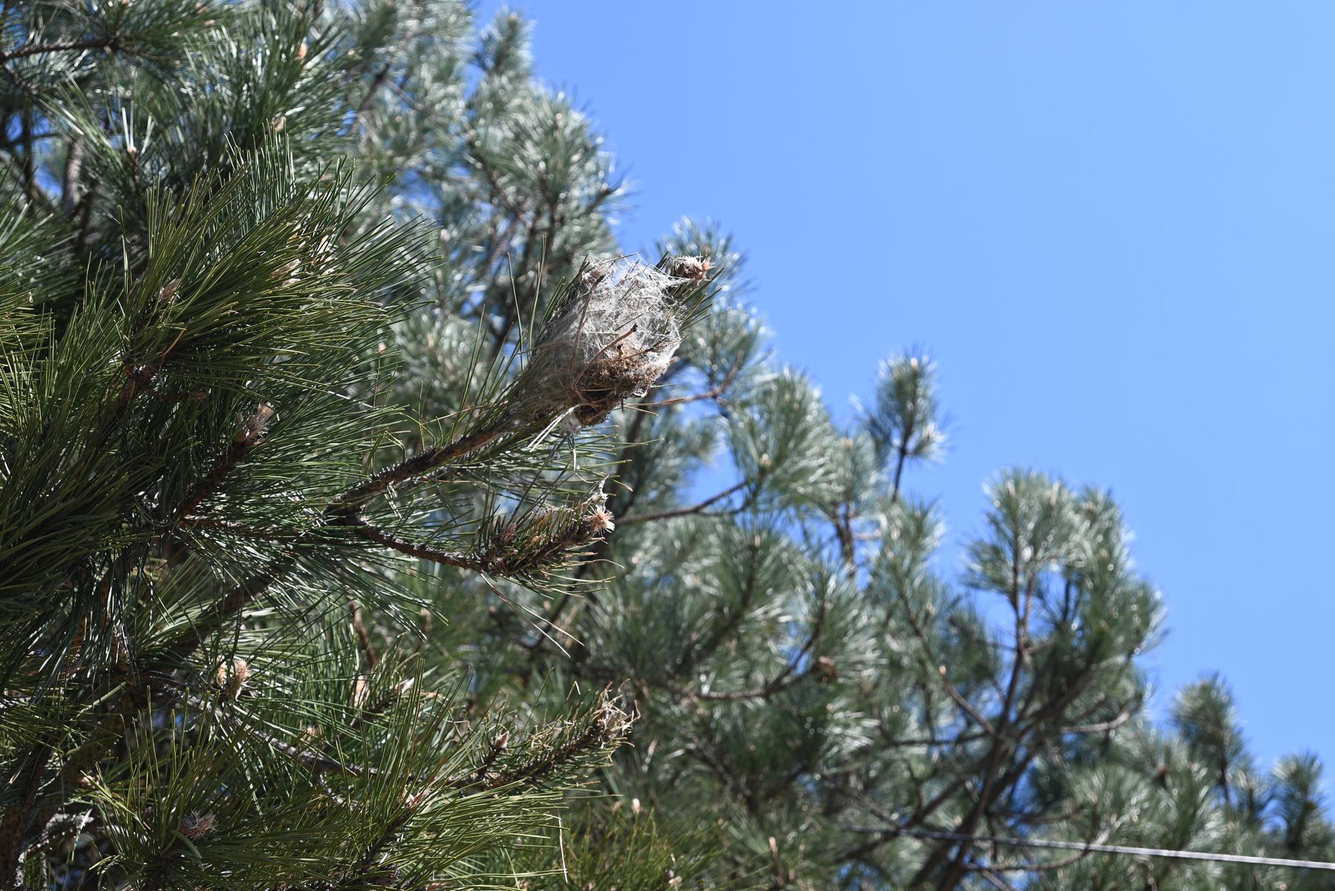thaumatopoea pityocampa jajno gnijezdo: (505, 257, 704, 425)
